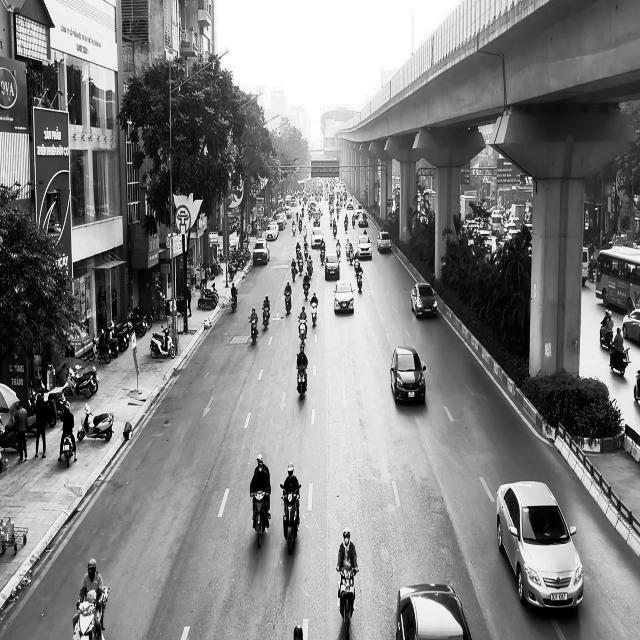bus: (595, 244, 640, 314)
car: (496, 480, 583, 610), (396, 582, 472, 640), (390, 343, 426, 405), (411, 282, 437, 318), (332, 279, 355, 314), (622, 308, 640, 344), (377, 230, 391, 252)
motorbike: (336, 564, 358, 638), (77, 402, 114, 442), (280, 483, 300, 555), (250, 490, 270, 548), (149, 324, 176, 359), (609, 344, 631, 376), (62, 431, 76, 467), (296, 362, 308, 398), (248, 316, 258, 345), (310, 300, 318, 326), (262, 308, 270, 330), (355, 270, 363, 292), (284, 292, 291, 314), (231, 291, 237, 313)
